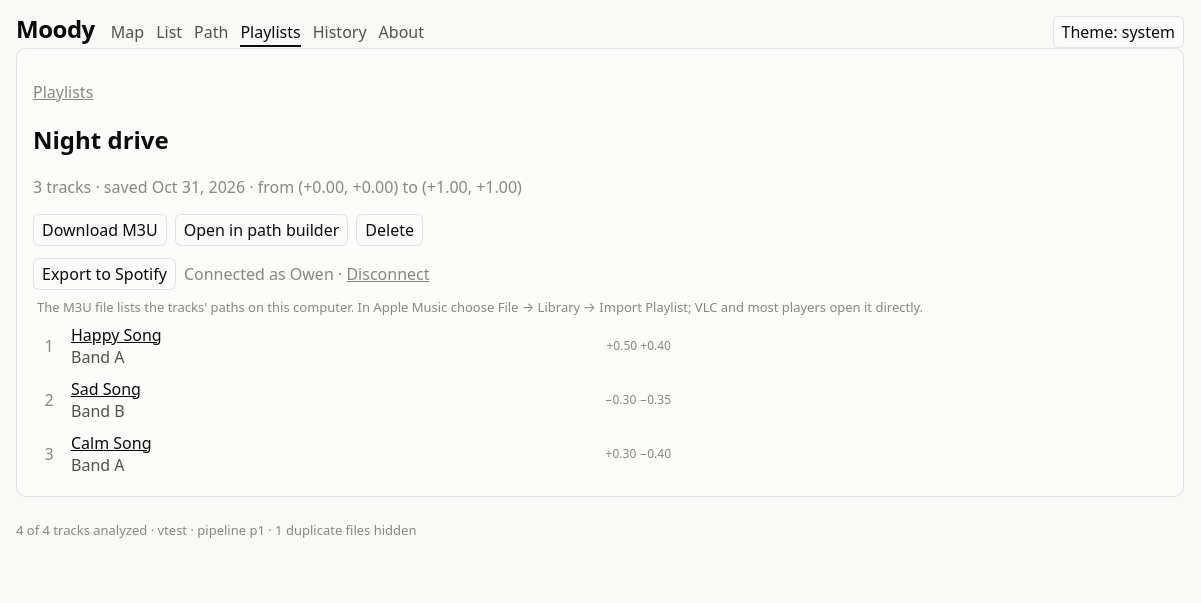
Test case: Spotify: export reports matches and misses
Check: the heading "Night drive" is shown, box [33,123,169,156]
Check: the text "Connected as Owen · Disconnect" is shown, box [184,263,430,285]
Click the button "Export to Spotify".
click(104, 274)  # box [33,258,176,290]
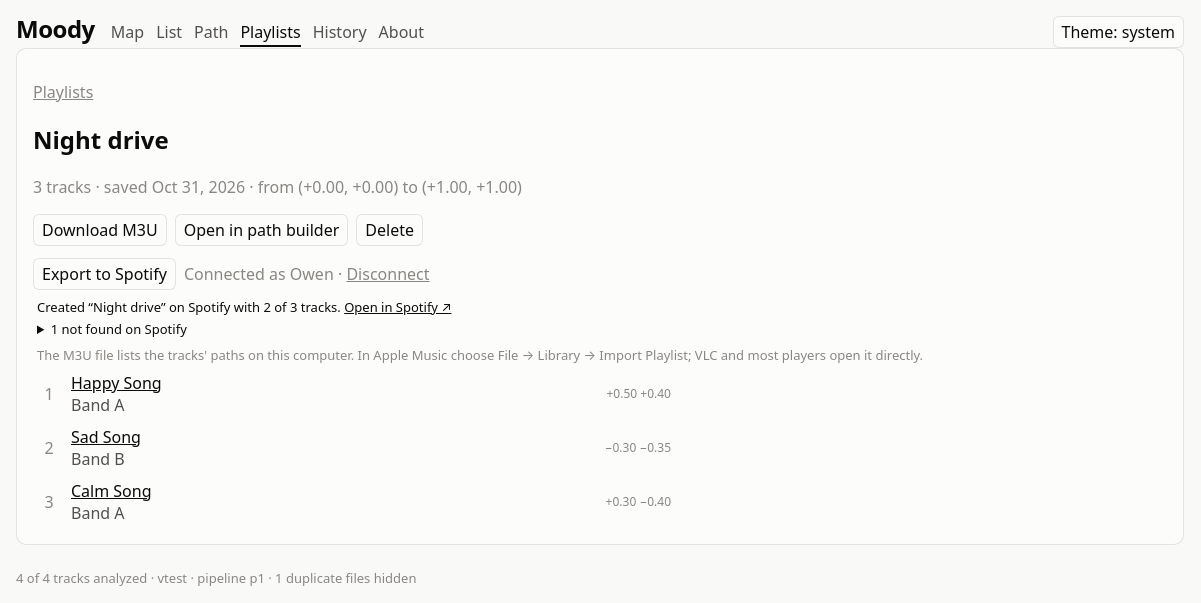
Check: the heading "1 not found on Spotify" is shown, box [51,320,187,338]
Click the button "Disconnect".
click(388, 274)  # box [346,263,430,285]
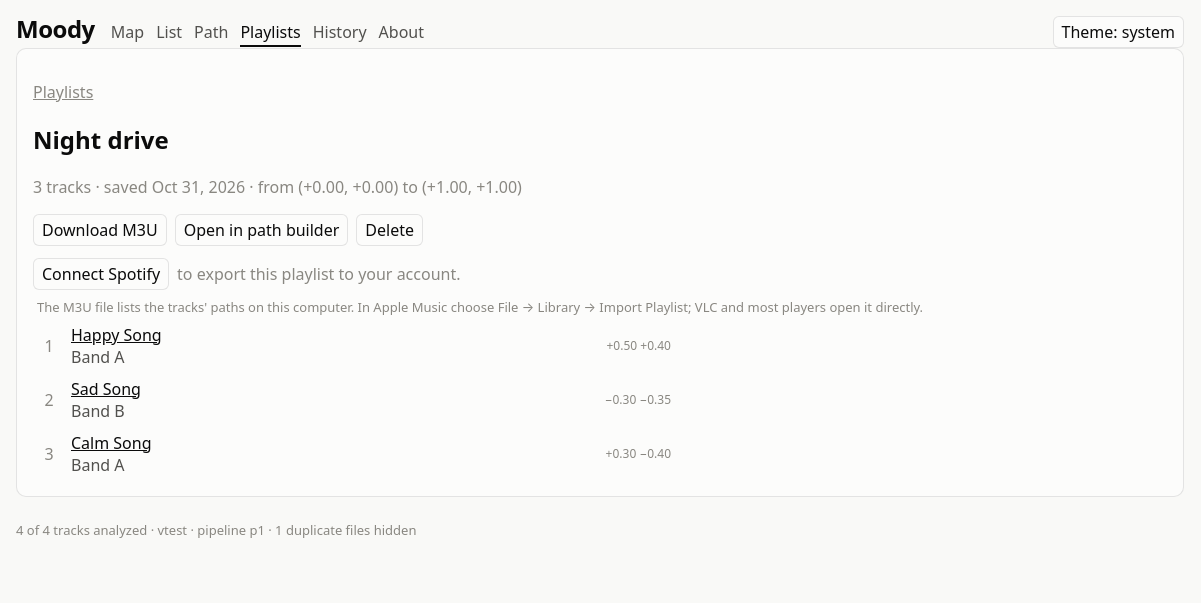
Check: the link "Connect Spotify" is shown, box [33,258,169,290]
